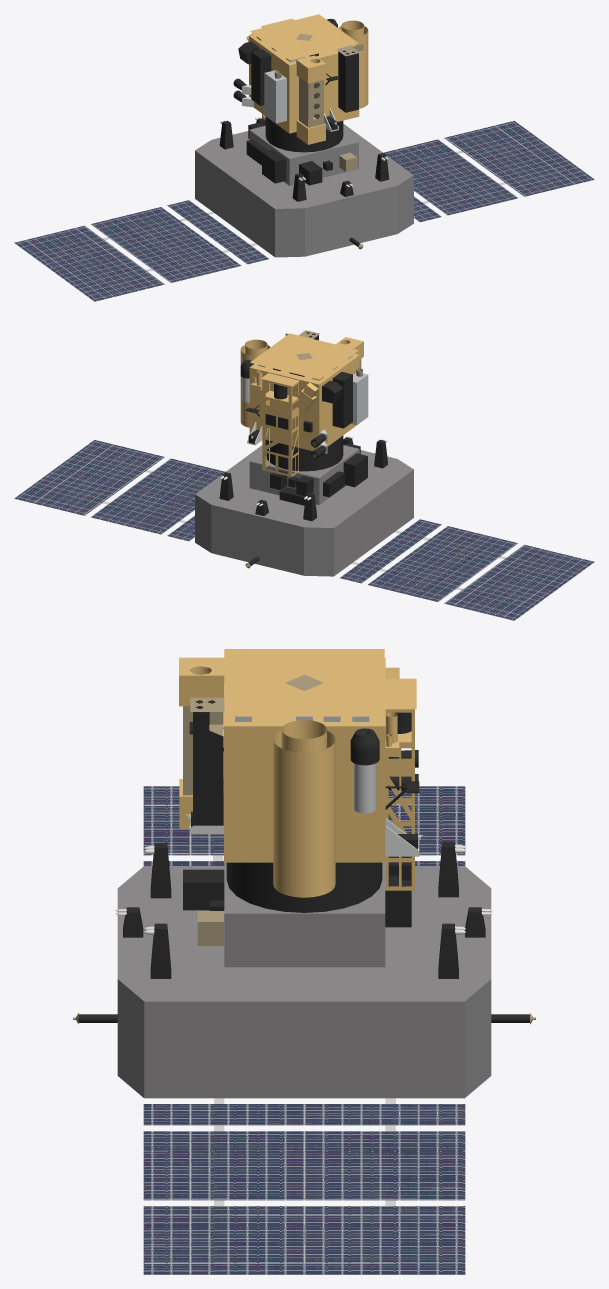
The model's file is soho.glb.
3 views of the same model, one above another, from view 1: azimuth 30°, elevation 25°; view 2: azimuth 150°, elevation 25°; view 3: azimuth 270°, elevation 25° (orthographic). The views are drawn at different scales.
Visible parts, largest first — view 1: Fake; view 2: Fake; view 3: Fake.
Part boxes in pixels (x1,y1,x2,y2): Fake: [14, 14, 594, 301]; Fake: [14, 330, 594, 620]; Fake: [73, 649, 535, 1274].
Bounding box in the file's own units: 9.5 × 3.17 × 3.81.
7 materials, 1 textured.
